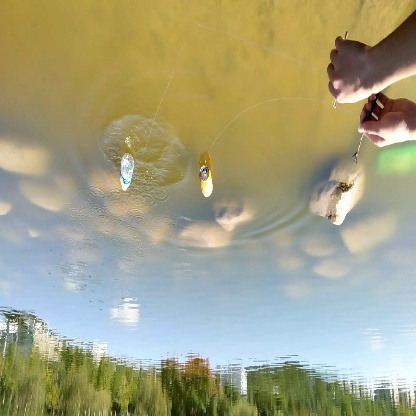bottle: (116, 151, 141, 195), (197, 162, 218, 201)
